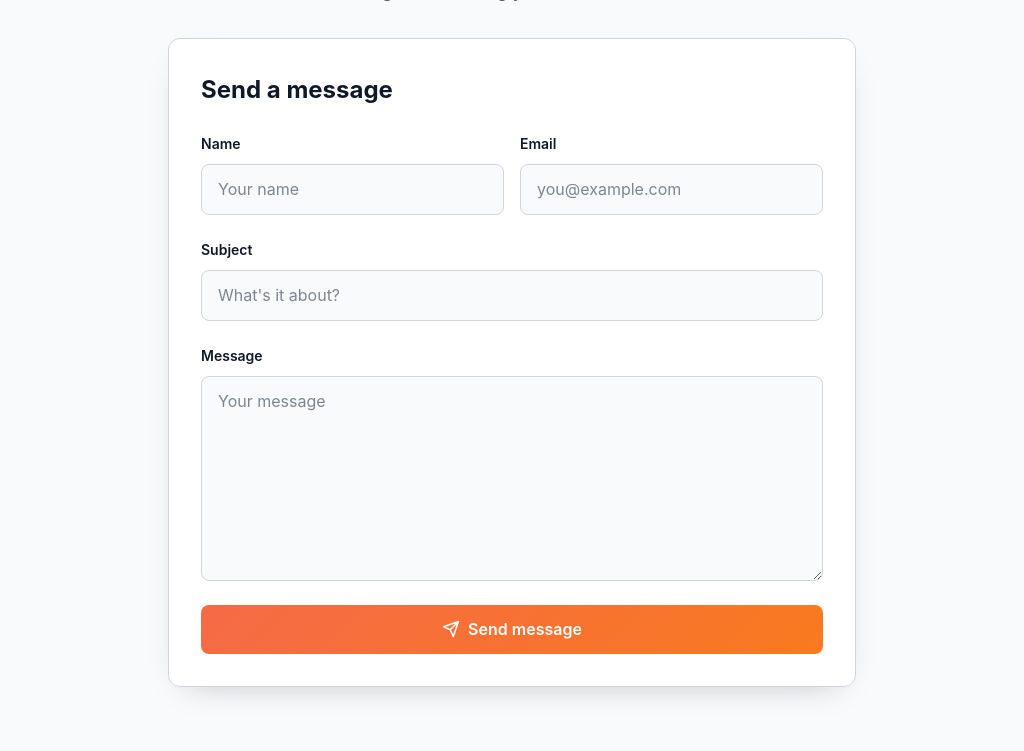
Test: ContactPageComponent › shows validation errors instead of sending an empty form
This screenshot has width=1024, height=751.
(page scrolled)
Click the button "Send message" at x=512, y=630, box [201,605,823,654]
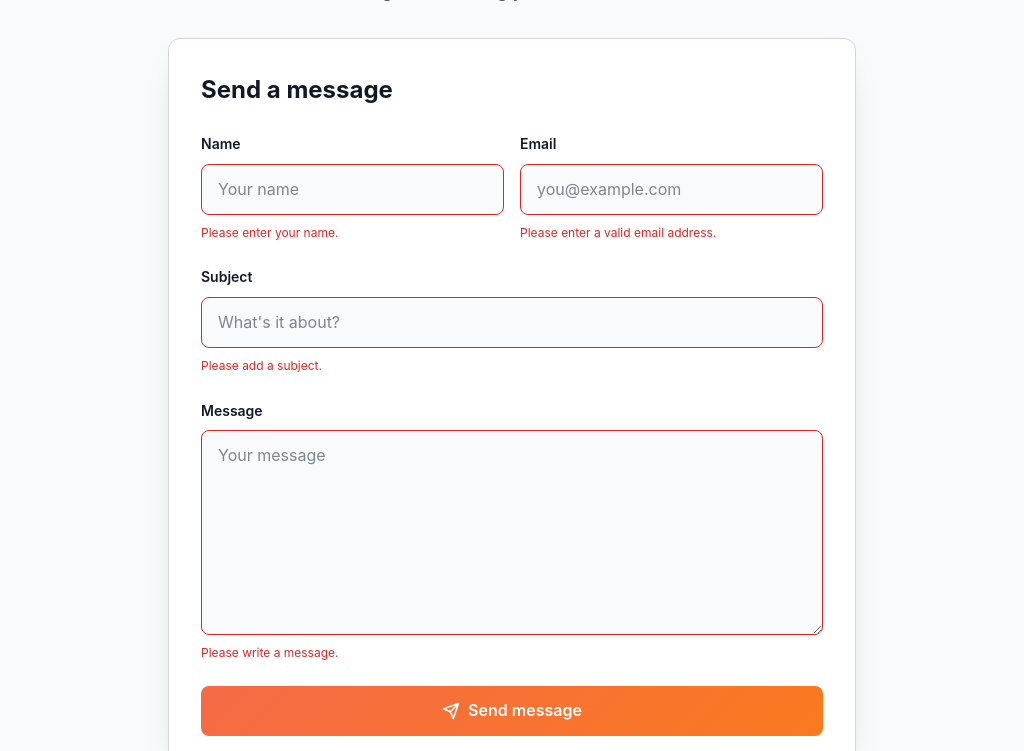
Expected: the text "Please enter your name." is shown, [201,225,338,240]
Expected: the text "Please enter a valid email address." is shown, [520,225,716,240]
